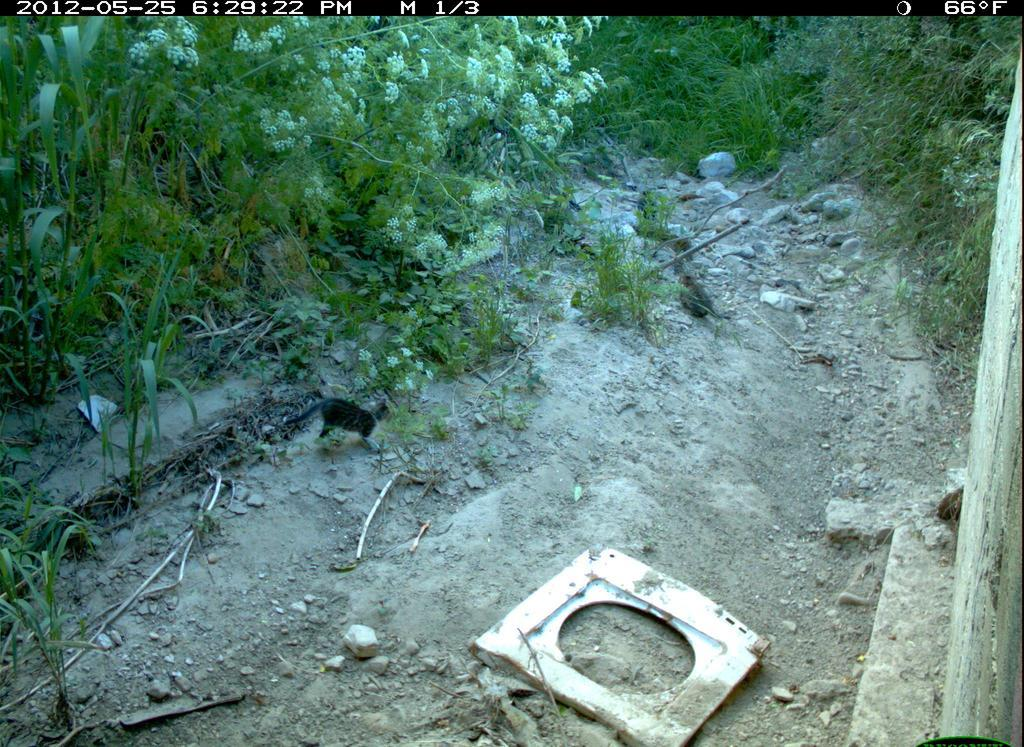cat: (276, 386, 408, 470)
